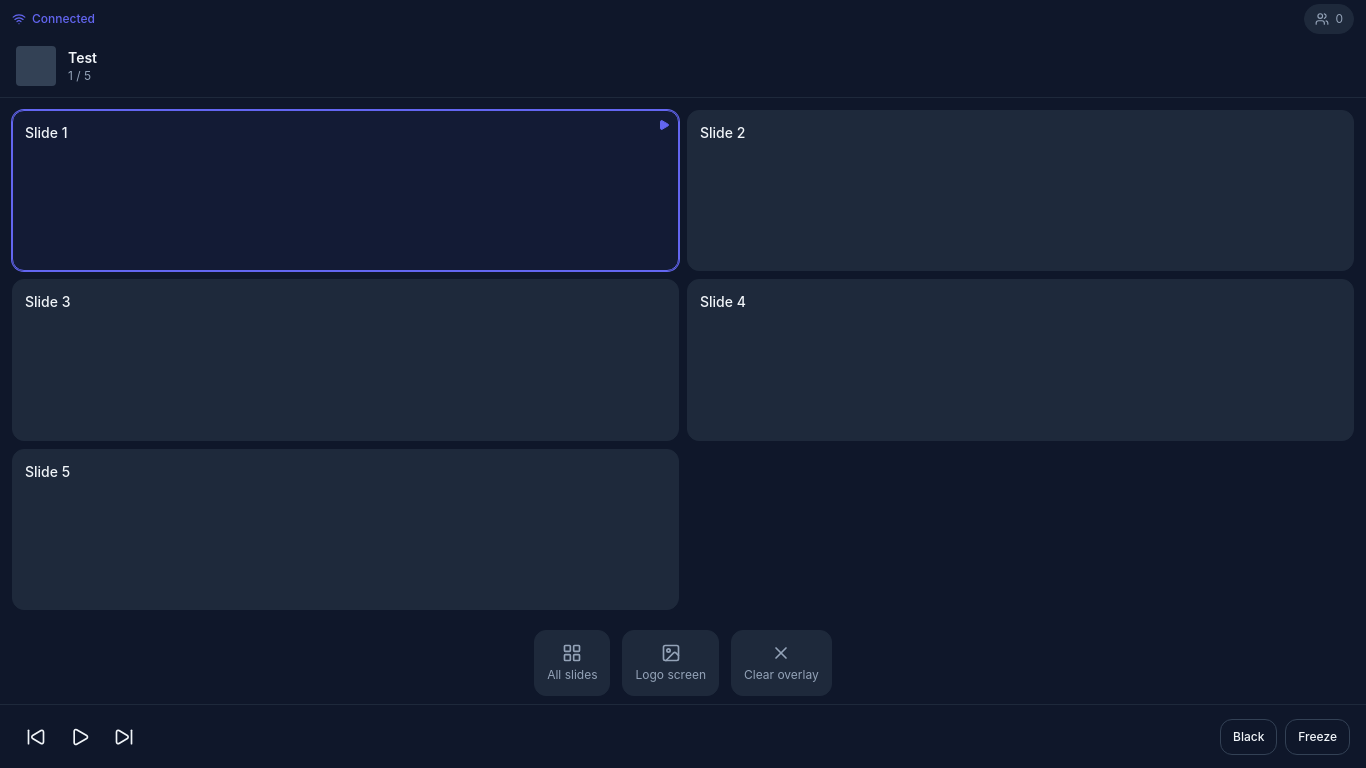
Test: LiveRoute — G2 › clicking All Slides opens the slide grid
Click the button "All slides".
click(572, 663)  # box [534,630,610,696]
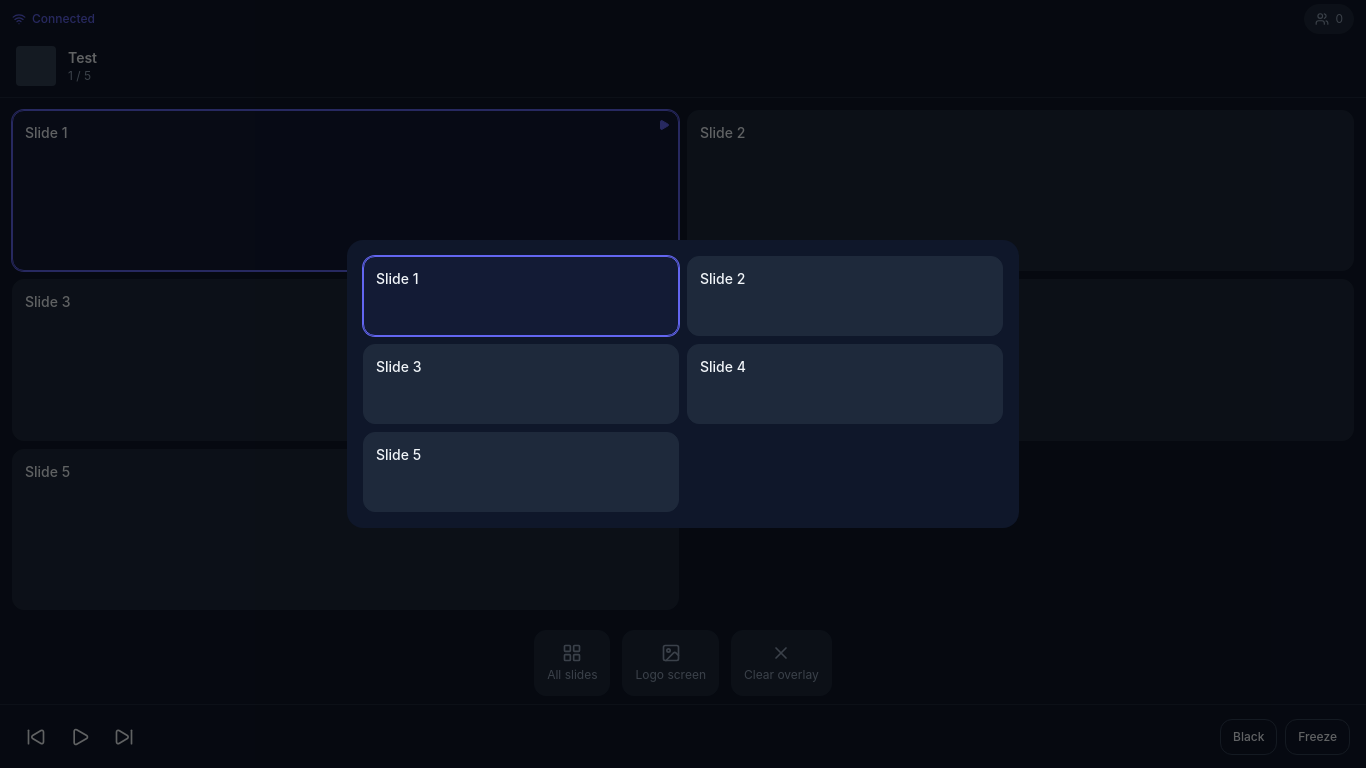
Check: the dialog named "all slides" is shown, box [347,240,1019,528]
